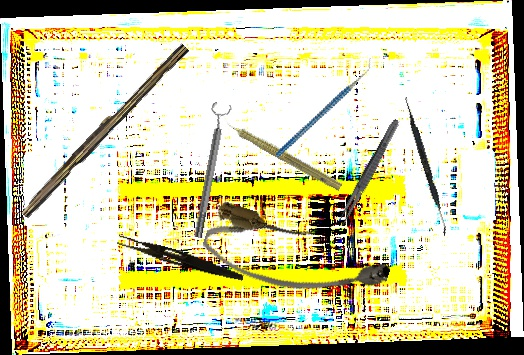Cannula: (197, 198, 395, 319)
Chopper: (255, 57, 393, 158)
Dressing Forceps: (335, 117, 403, 228), (115, 234, 246, 283)
Fixation Ring: (186, 101, 234, 240)
Handpiece: (216, 111, 346, 194)
Scalpel Handle: (17, 38, 190, 222)
Spatula Surgical: (399, 96, 453, 236)
